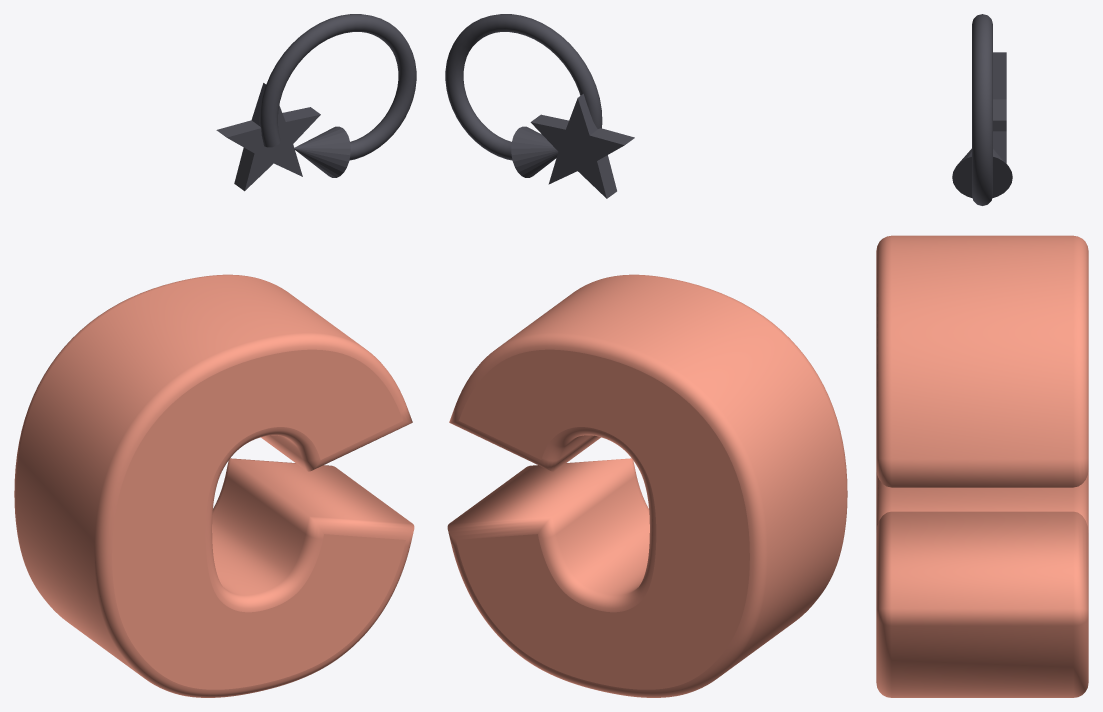
The picture shows the model from 3 angles, left to right: view 1: azimuth 30°, elevation 25°; view 2: azimuth 150°, elevation 25°; view 3: azimuth 270°, elevation 25°; orthographic projection. The views are drawn at different scales.
Parts seen in each view (by area): view 1: Lettre_C, Boucle, Etoile, Fleche; view 2: Lettre_C, Boucle, Etoile, Fleche; view 3: Lettre_C, Boucle, Etoile, Fleche.
Part boxes in pixels (x1,y1,x2,y2): Lettre_C: [14, 274, 414, 697]; Boucle: [259, 14, 416, 160]; Etoile: [216, 83, 320, 191]; Fleche: [293, 126, 350, 177]; Lettre_C: [447, 274, 847, 697]; Boucle: [445, 14, 602, 160]; Etoile: [530, 94, 634, 198]; Fleche: [511, 126, 558, 177]; Lettre_C: [876, 235, 1088, 697]; Boucle: [972, 14, 992, 205]; Etoile: [993, 52, 1006, 163]; Fleche: [952, 148, 1012, 197].
Bounding box in the file's own units: 1.6 × 2.61 × 0.7.
